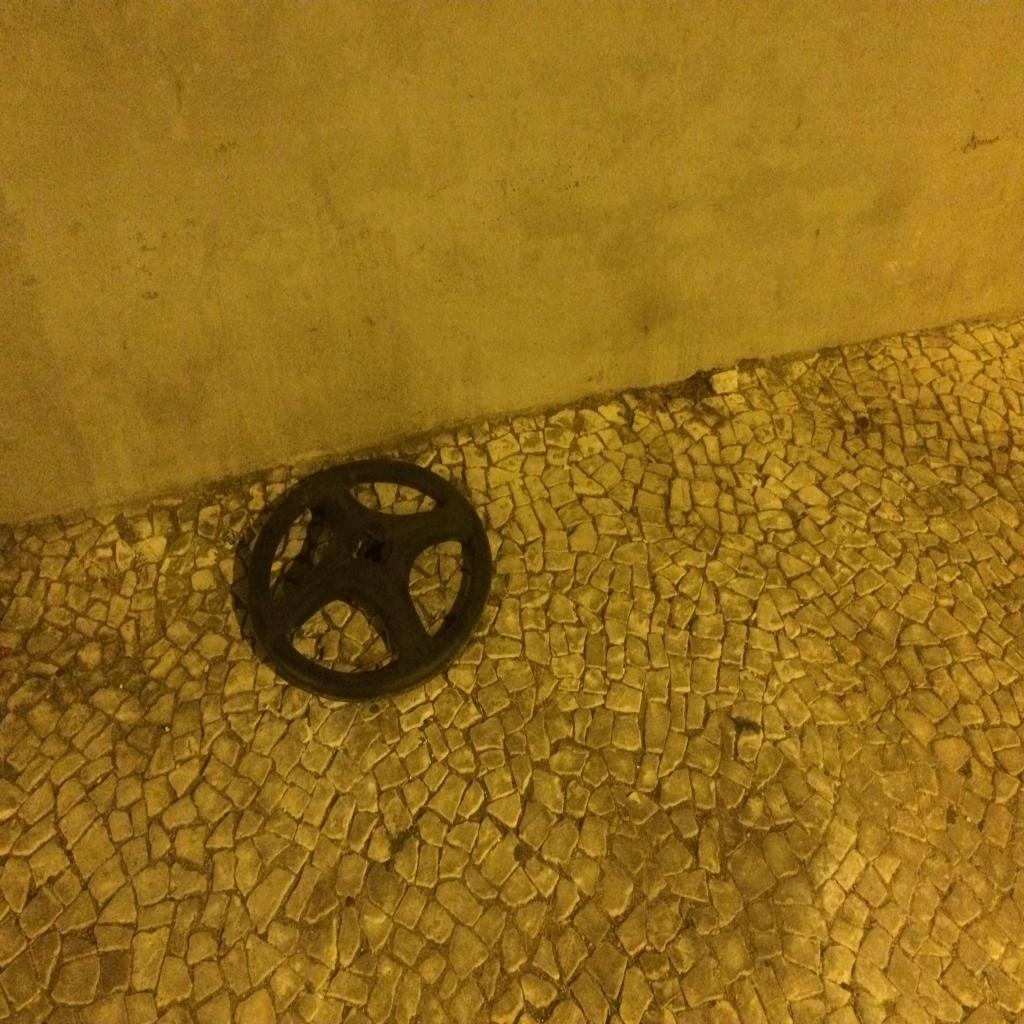Cigarette: (750, 612, 758, 620)
Other plastic wrapper: (247, 458, 493, 702)
